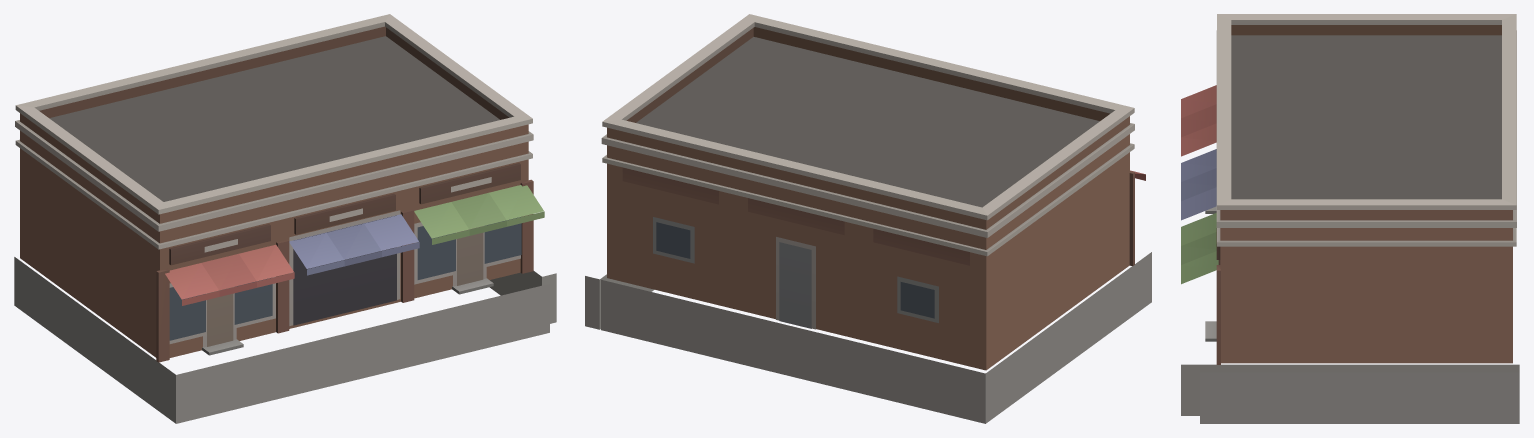
The model's file is shops.lod2.glb.
3 renders of one model, left to right at view 1: azimuth 30°, elevation 25°; view 2: azimuth 150°, elevation 25°; view 3: azimuth 270°, elevation 25°, orthographic. The views are drawn at different scales.
Size of the model in its own units: 12.48 by 6.16 by 8.97.
